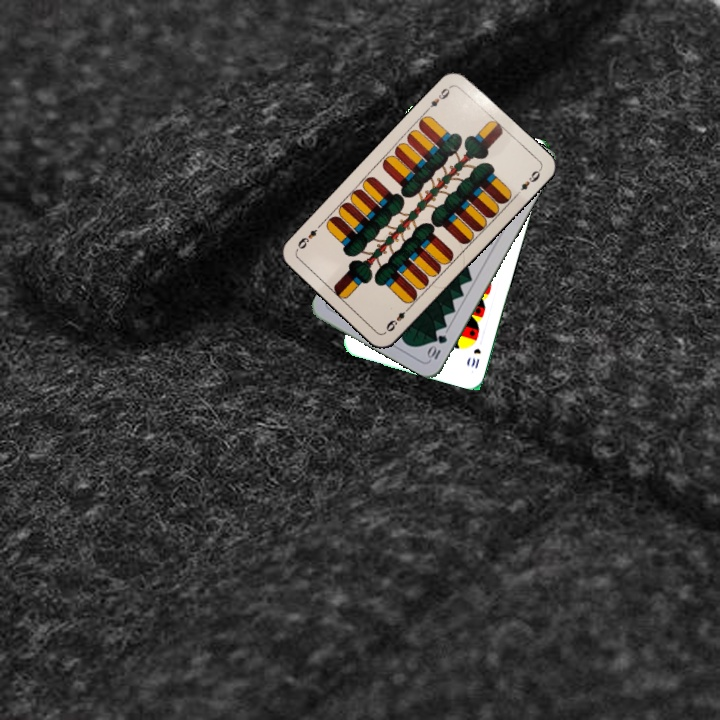E9: (422, 82, 454, 114), (382, 303, 413, 334)
G10: (424, 331, 450, 362)
S10: (467, 344, 483, 371)
